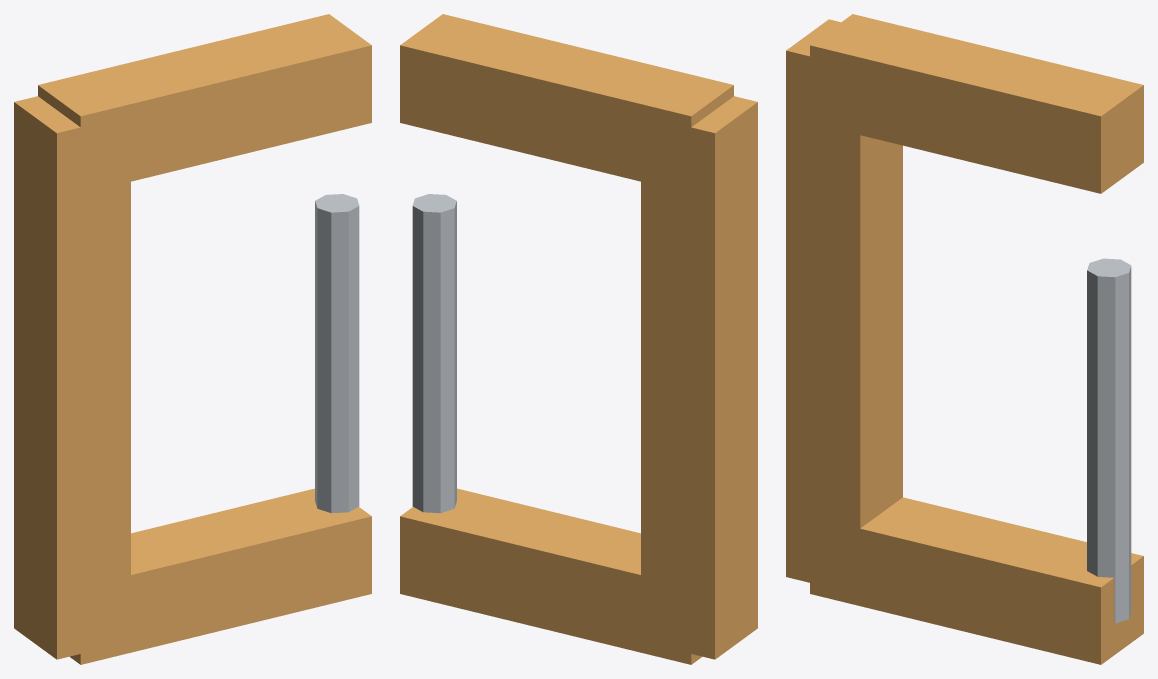
The model's file is clamp_c_frame.glb.
3 renders of one model, left to right at view 1: azimuth 30°, elevation 25°; view 2: azimuth 150°, elevation 25°; view 3: azimuth 330°, elevation 25°, orthographic.
Visible parts, largest first — view 1: HousingAccent, MetalBody; view 2: HousingAccent, MetalBody; view 3: HousingAccent, MetalBody.
Part boxes in pixels (x1,y1,x2,y2): HousingAccent: (14, 14, 371, 664); MetalBody: (315, 194, 359, 513); HousingAccent: (400, 14, 757, 664); MetalBody: (412, 194, 456, 513); HousingAccent: (786, 14, 1143, 664); MetalBody: (1087, 258, 1131, 623).
Bounding box in the file's own units: 0.243 × 0.396 × 0.056.
